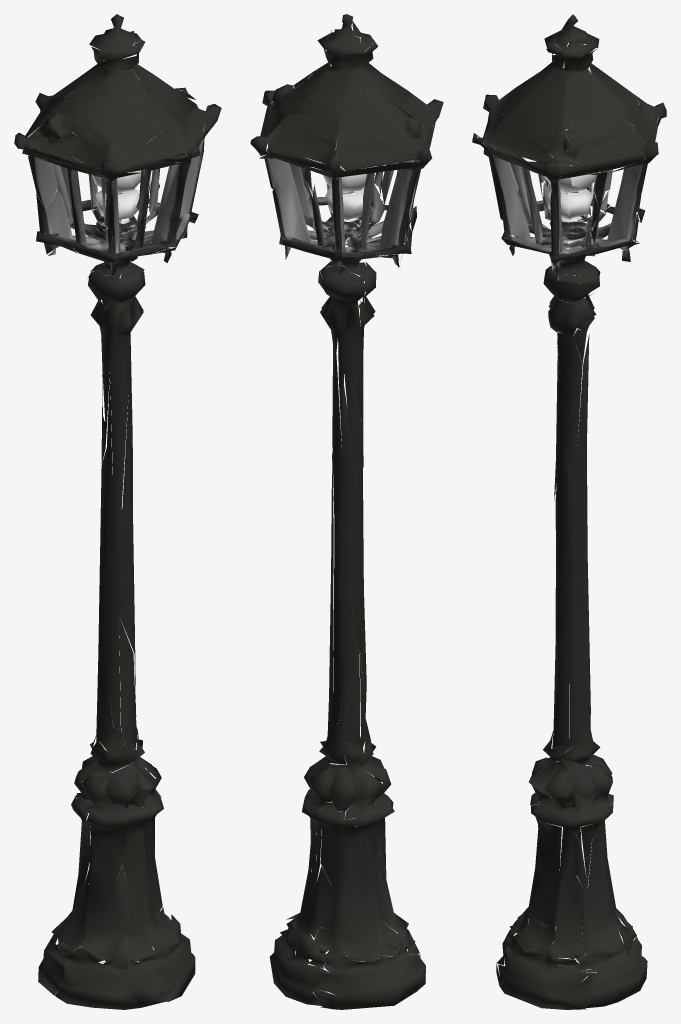
Rendered from cp_gaslamp.glb.
3 views of the same model, side by side, from view 1: azimuth 30°, elevation 25°; view 2: azimuth 150°, elevation 25°; view 3: azimuth 270°, elevation 25° (orthographic).
Visible parts, largest first — view 1: tripo_node_eb8d982a-9450-405f-8a07-4f4504a45174; view 2: tripo_node_eb8d982a-9450-405f-8a07-4f4504a45174; view 3: tripo_node_eb8d982a-9450-405f-8a07-4f4504a45174.
Boxes of the visible parts, x1,y1,x2,y2 form: tripo_node_eb8d982a-9450-405f-8a07-4f4504a45174: (14, 14, 221, 1009); tripo_node_eb8d982a-9450-405f-8a07-4f4504a45174: (250, 14, 443, 1009); tripo_node_eb8d982a-9450-405f-8a07-4f4504a45174: (472, 14, 666, 1009).
Size of the model in its own units: 0.2008 by 1 by 0.1828.
1 material, 1 textured.
